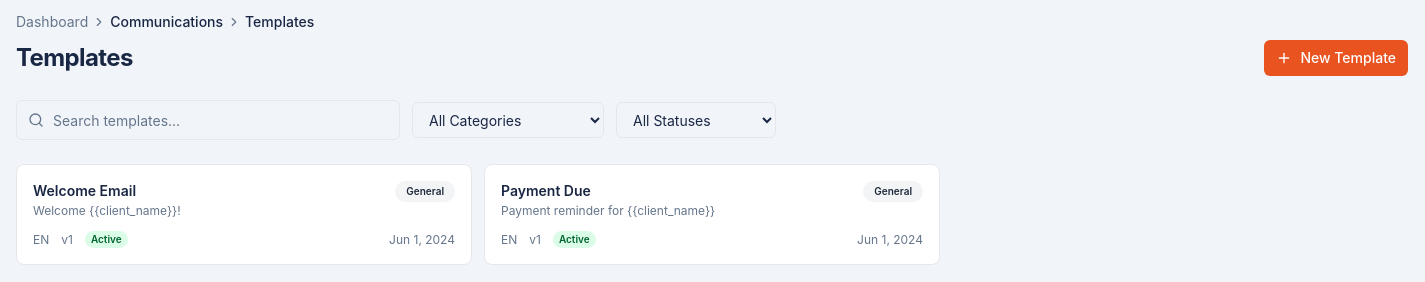
Scenario: TemplatesView › filters by search text
The image size is (1425, 282).
Type "Payment" into the field with placeholder "Search templates…" at (208, 120), box [16,100,400,140]
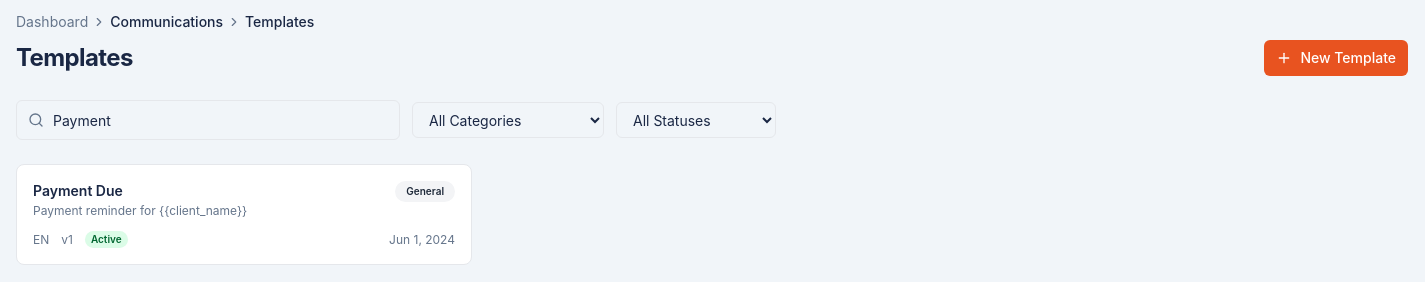
Expected: the heading "Payment Due" is shown, [33,182,123,199]
Now the button "Welcome Email" is gone
